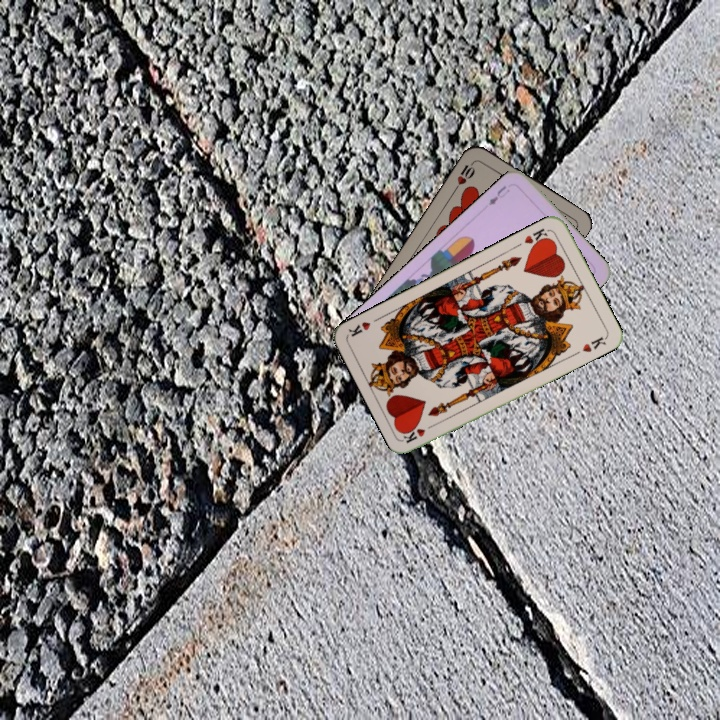EU: (485, 181, 512, 208)
H10: (450, 157, 478, 193)
HK: (400, 419, 439, 446), (520, 224, 552, 250)
